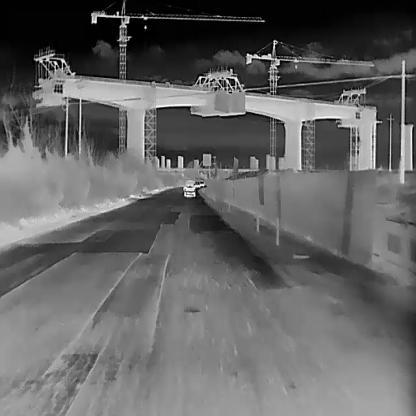car: (183, 180, 195, 197), (194, 180, 199, 187), (200, 180, 204, 185)
